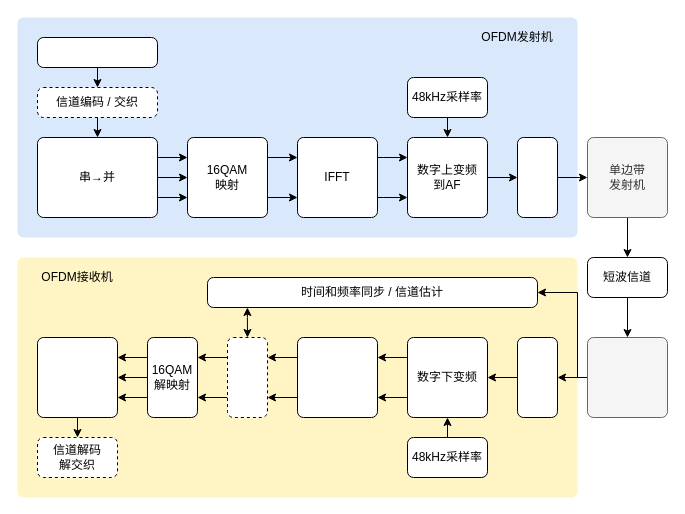
Image size: 685x514. Some labels were removed from this diagram. The box of each missing label's shape, as (x1, y1, x2, y2) in pixels:
CP: (516, 136, 558, 218)
FFT: (296, 336, 378, 418)
信道 均衡: (226, 336, 268, 418)
单边带 接收机: (586, 336, 668, 418)
原始数据 / 训练符号: (36, 36, 158, 68)
去CP: (516, 336, 558, 418)
并→串: (36, 336, 118, 418)
